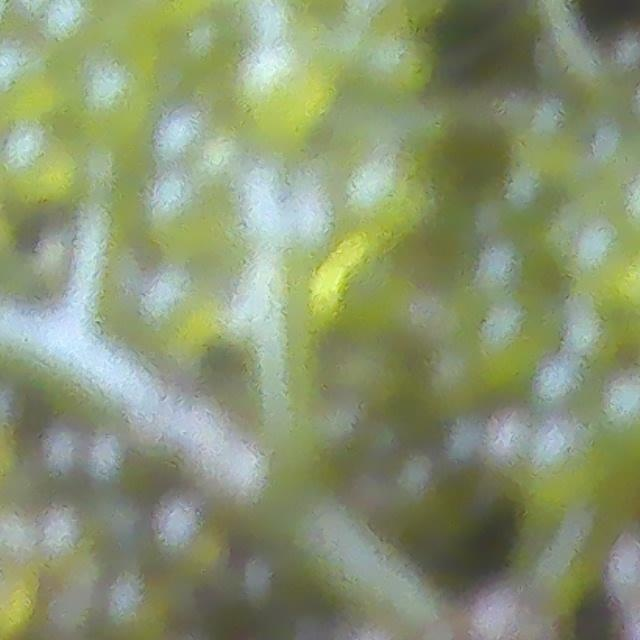SeaGrape: (235, 41, 337, 144), (36, 0, 101, 47)
